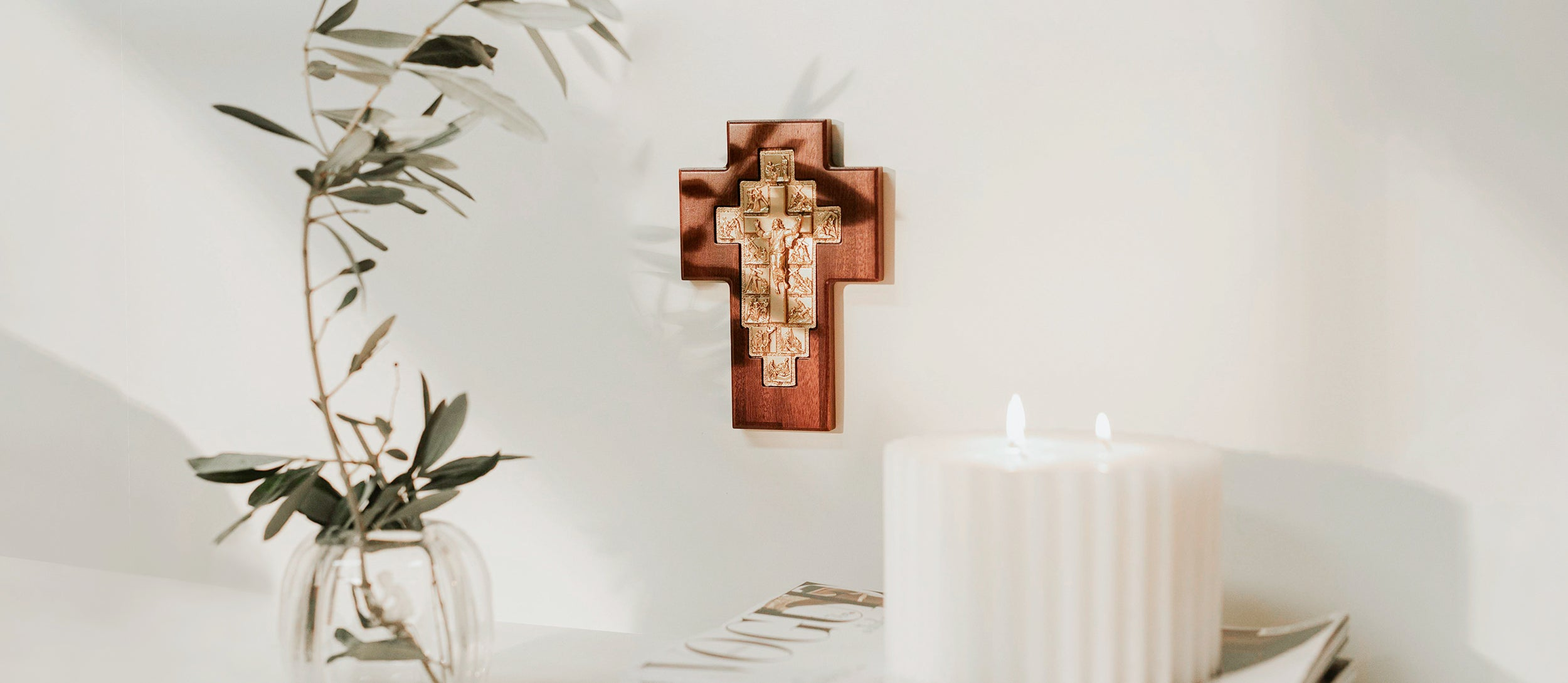Open-Flame-Hazard: (867, 382, 1236, 682)
